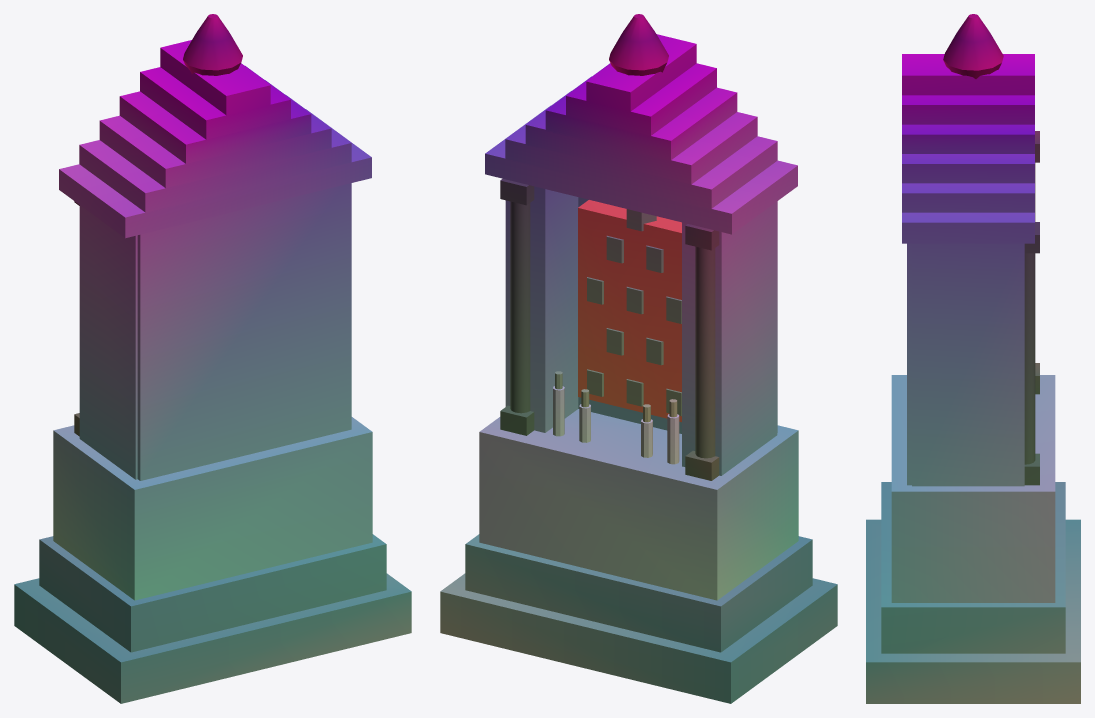
Rendered from comb_shrine.glb.
3 views of the same model, side by side, from view 1: azimuth 30°, elevation 25°; view 2: azimuth 150°, elevation 25°; view 3: azimuth 270°, elevation 25° (orthographic).
Visible parts, largest first — view 1: shrine_stone, shrine_plinth, shrine_finial; view 2: shrine_stone, shrine_plinth, shrine_ember, shrine_cols, shrine_comb, shrine_finial, shrine_tapers, shrine_flames; view 3: shrine_stone, shrine_plinth, shrine_cols, shrine_finial.
Part boxes in pixels (x1,y1,x2,y2): shrine_stone: [53, 40, 372, 600]; shrine_plinth: [14, 534, 411, 703]; shrine_finial: [183, 14, 242, 75]; shrine_stone: [479, 34, 798, 600]; shrine_plinth: [440, 534, 837, 703]; shrine_ember: [578, 200, 681, 422]; shrine_cols: [500, 179, 719, 480]; shrine_comb: [587, 209, 681, 416]; shrine_finial: [609, 14, 668, 75]; shrine_tapers: [553, 386, 679, 464]; shrine_flames: [555, 371, 677, 422]; shrine_stone: [891, 54, 1055, 602]; shrine_plinth: [866, 482, 1080, 703]; shrine_cols: [1024, 131, 1039, 485]; shrine_finial: [943, 14, 1003, 78].
Size of the model in its own units: 1.32 by 2.66 by 0.84.
